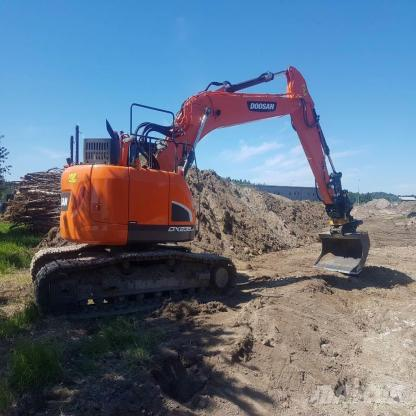excavator: (28, 60, 384, 331)
